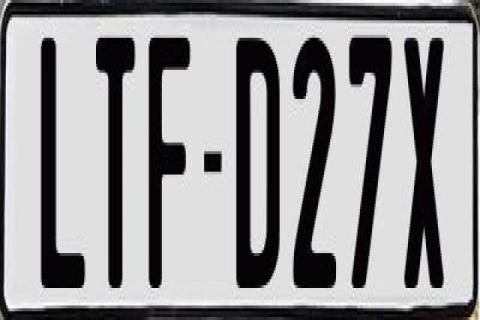0: (290, 29, 336, 294), (346, 38, 392, 291)
D: (236, 38, 280, 294)
F: (148, 32, 194, 294)
L: (38, 35, 90, 297)
T: (96, 29, 139, 288)
X: (402, 35, 446, 285)
